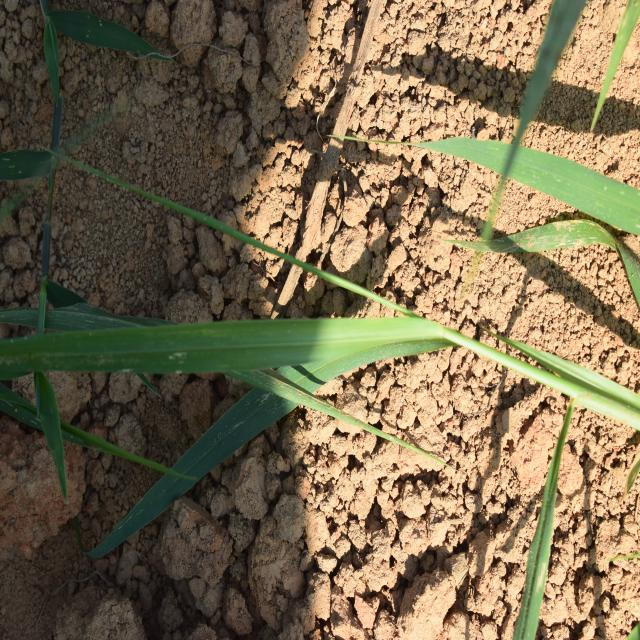green_foxtail: (36, 206, 453, 458)
